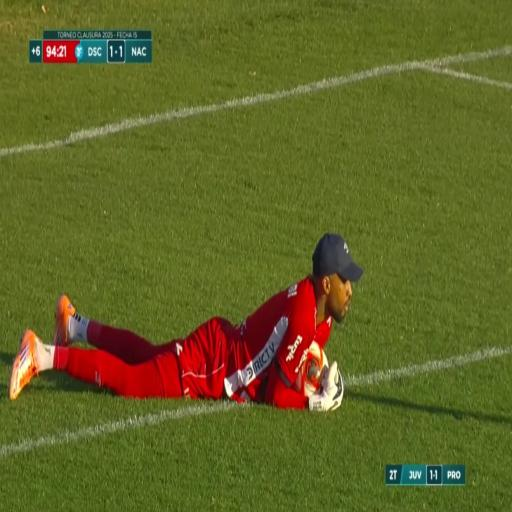Ball: (293, 335, 330, 402)
Goalkeeper: (6, 231, 365, 407)
